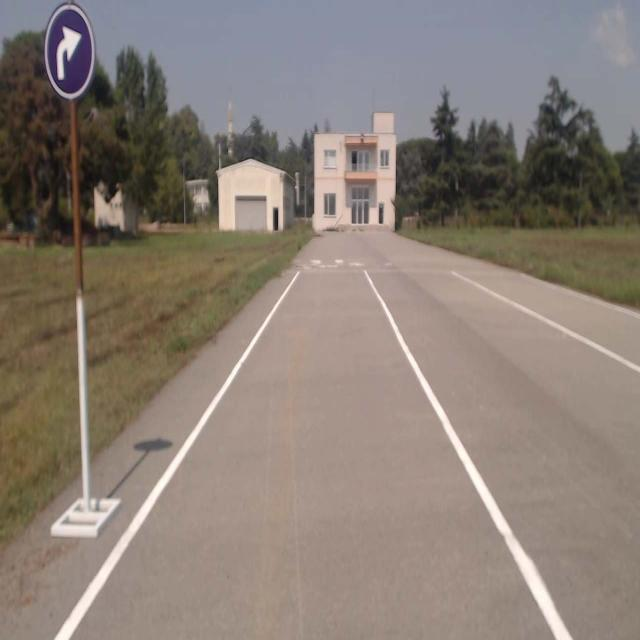sag: (44, 5, 96, 102)
